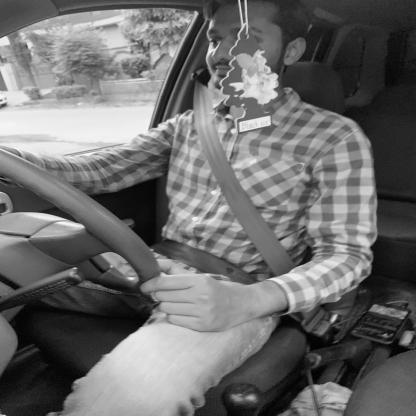seatbelt: (131, 11, 317, 240)
